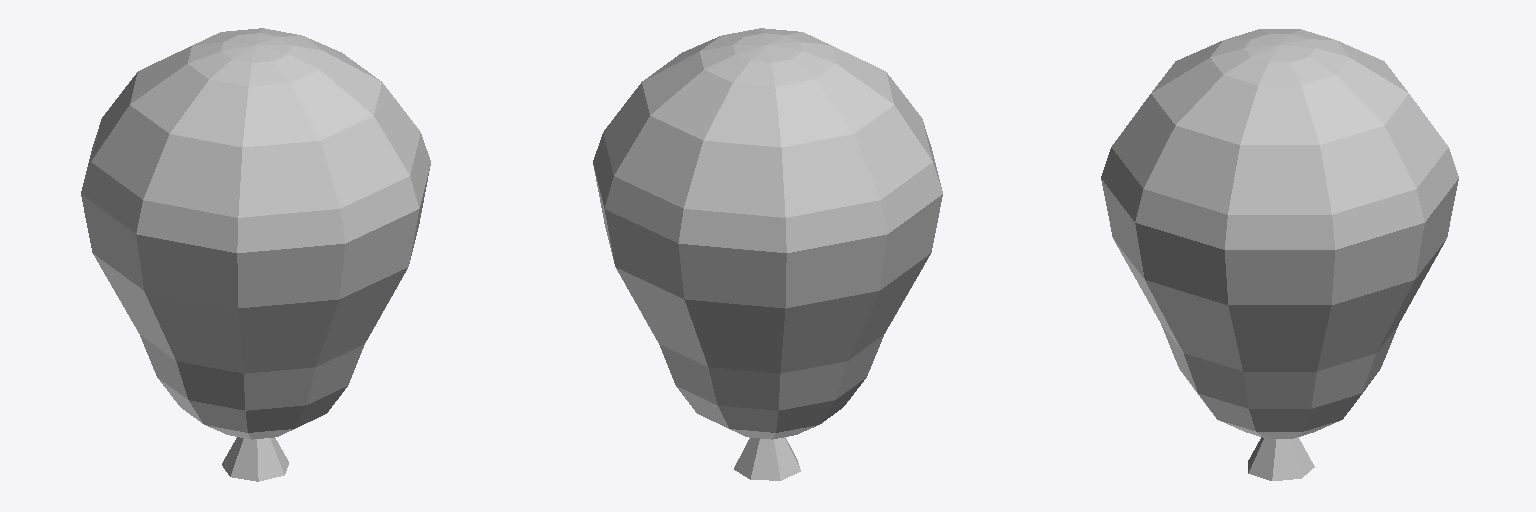
The model's file is Balloon.obj.
The picture shows the model from 3 angles: view 1: azimuth 30°, elevation 25°; view 2: azimuth 150°, elevation 25°; view 3: azimuth 270°, elevation 25°; orthographic projection.
Parts seen in each view (by area): view 1: Sphere, Cone; view 2: Sphere, Cone; view 3: Sphere, Cone.
Part boxes in pixels (x1,y1,x2,y2): Sphere: (81, 28, 430, 439); Cone: (222, 437, 288, 481); Sphere: (593, 28, 942, 439); Cone: (734, 437, 800, 480); Sphere: (1101, 29, 1458, 438); Cone: (1248, 437, 1314, 480).
Size of the model in its own units: 1.87 by 2.55 by 1.96.